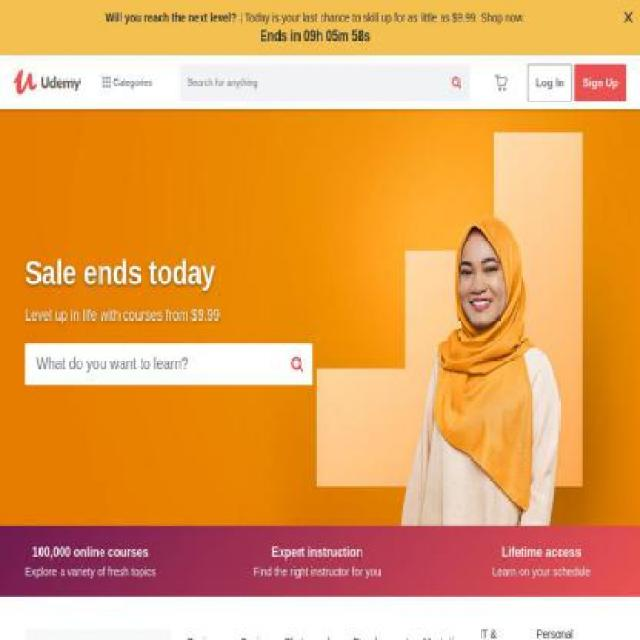button: (93, 63, 162, 102), (575, 63, 627, 102), (12, 69, 82, 96), (528, 617, 615, 638), (528, 63, 572, 102), (345, 617, 417, 638), (277, 617, 346, 638), (471, 617, 529, 638), (416, 617, 472, 638), (180, 617, 234, 638), (487, 63, 516, 102), (232, 617, 278, 638)
field: (25, 343, 282, 385), (179, 63, 443, 102)
